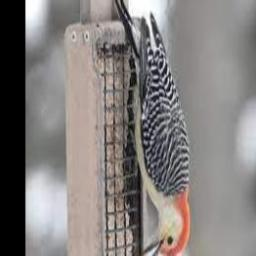Woodpecker: (111, 0, 190, 256)
